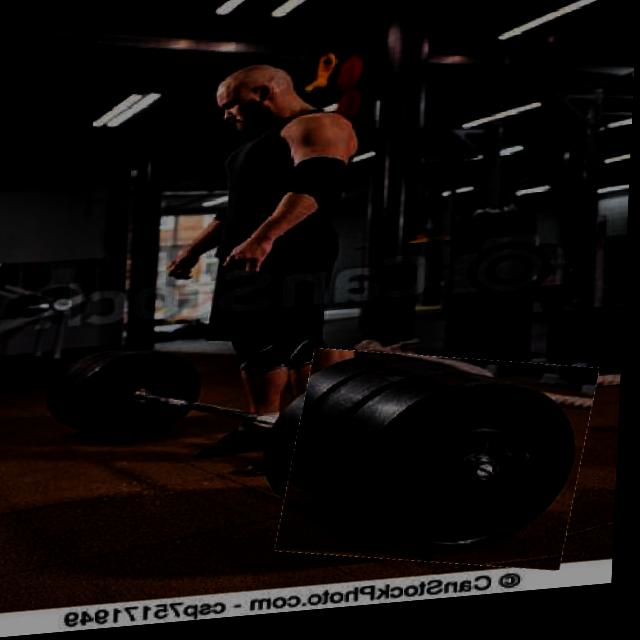barbell: (287, 347, 598, 591)
